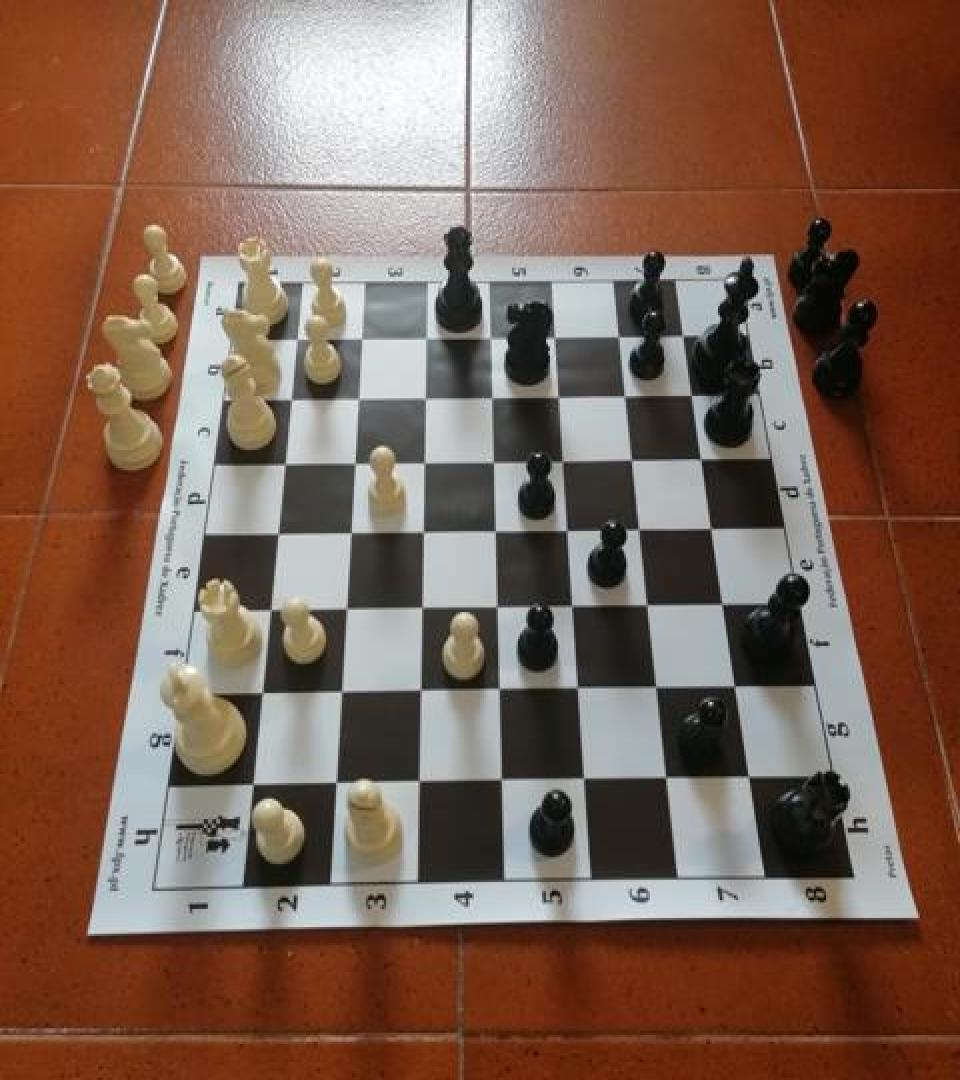xcorner: (669, 317, 699, 351), (604, 318, 634, 352), (539, 318, 569, 352), (344, 320, 374, 354), (278, 320, 308, 354), (678, 377, 708, 411), (611, 378, 641, 412), (543, 378, 573, 412), (476, 379, 506, 413), (408, 380, 438, 414), (340, 380, 370, 414), (272, 381, 302, 415), (688, 442, 718, 476), (618, 442, 648, 476), (548, 443, 578, 477), (477, 444, 507, 478), (407, 444, 437, 478), (337, 446, 367, 480), (266, 446, 296, 480), (699, 512, 729, 546), (626, 513, 656, 547), (553, 513, 583, 547), (479, 514, 509, 548), (406, 515, 436, 549), (333, 516, 363, 550), (259, 516, 289, 550), (710, 588, 740, 622), (634, 588, 664, 622), (558, 590, 588, 624), (482, 590, 512, 624), (329, 593, 359, 627), (252, 594, 282, 628), (723, 670, 753, 704), (564, 672, 594, 706), (484, 674, 514, 708), (404, 675, 434, 709), (324, 676, 354, 710), (244, 677, 274, 711), (737, 762, 767, 796), (654, 762, 684, 796), (570, 764, 600, 798), (487, 765, 517, 799), (403, 766, 433, 800), (319, 767, 349, 801), (235, 770, 265, 804), (474, 320, 504, 353), (409, 320, 439, 353), (405, 592, 435, 625), (643, 672, 673, 705)
